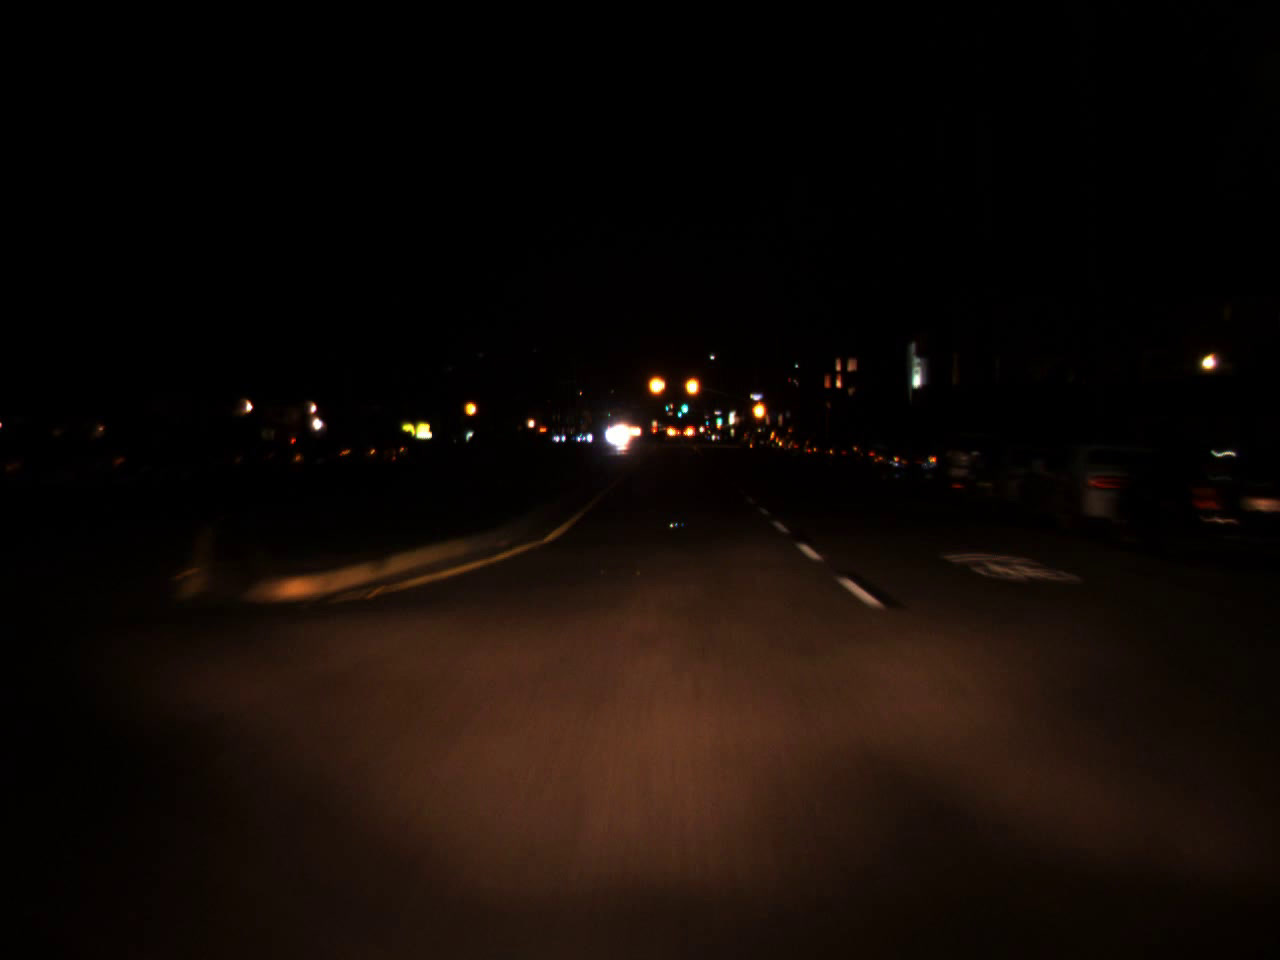go: (679, 394, 689, 415), (676, 406, 683, 418), (716, 412, 723, 424)
warning: (645, 365, 669, 400), (748, 389, 769, 429), (684, 367, 702, 404), (462, 394, 478, 421)
